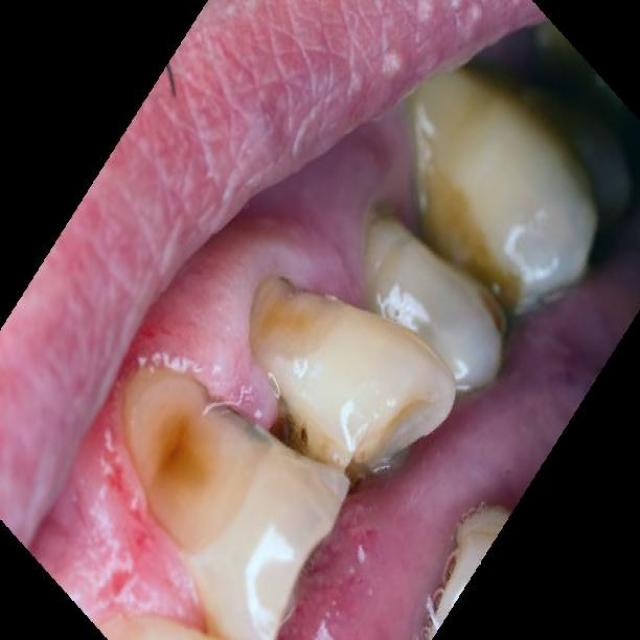caries: (257, 394, 333, 480)
